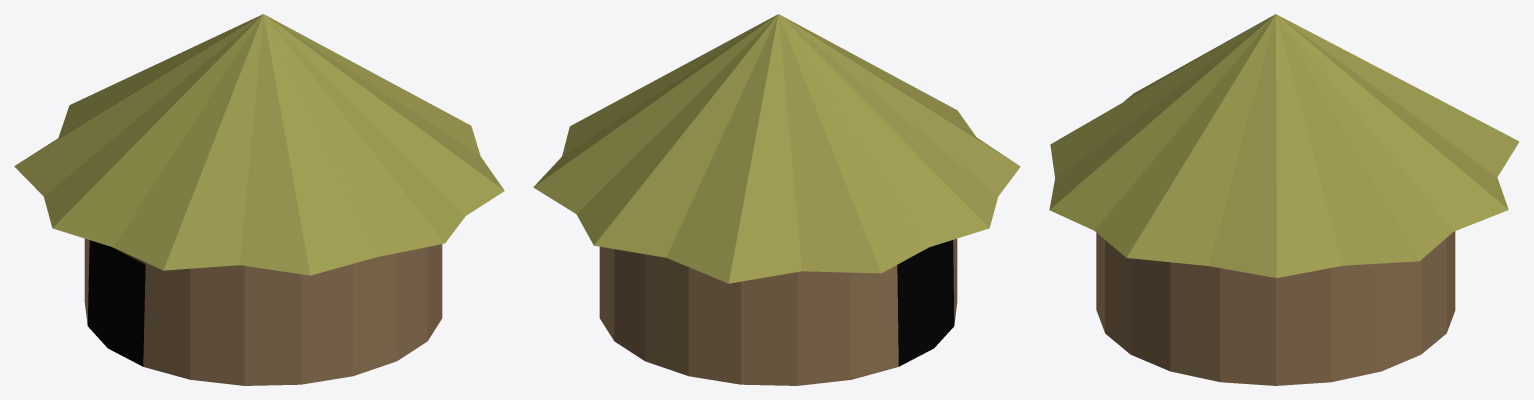
Rendered from Hut.fbx.
3 views of the same model, side by side, from view 1: azimuth 30°, elevation 25°; view 2: azimuth 150°, elevation 25°; view 3: azimuth 270°, elevation 25° (orthographic).
Visible parts, largest first — view 1: Cone, Cylinder; view 2: Cone, Cylinder; view 3: Cone, Cylinder.
Part boxes in pixels (bbox=[...]): Cone: bbox=[14, 14, 504, 275]; Cylinder: bbox=[84, 238, 442, 385]; Cone: bbox=[533, 14, 1020, 283]; Cylinder: bbox=[599, 238, 957, 385]; Cone: bbox=[1049, 14, 1519, 277]; Cylinder: bbox=[1096, 231, 1455, 385].
Size of the model in its own units: 539 by 364 by 524.
